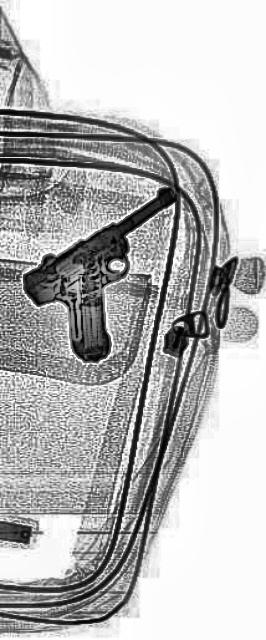Gun: (20, 177, 190, 395)
